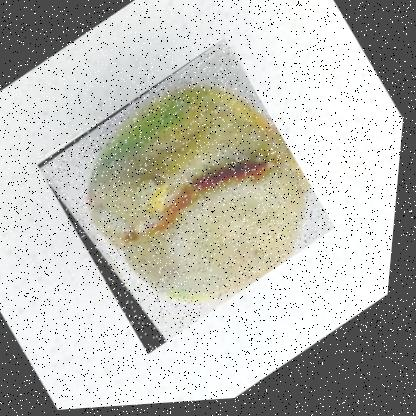orange_rotten: (25, 33, 354, 363)
